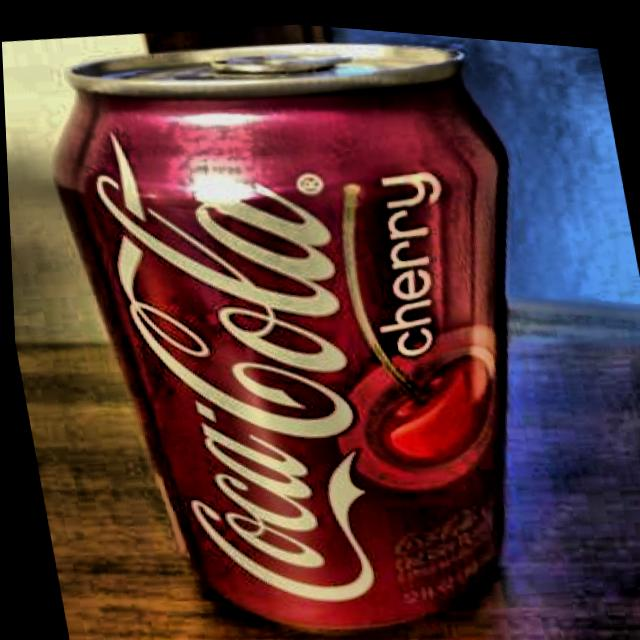Cans: (22, 1, 579, 640)
